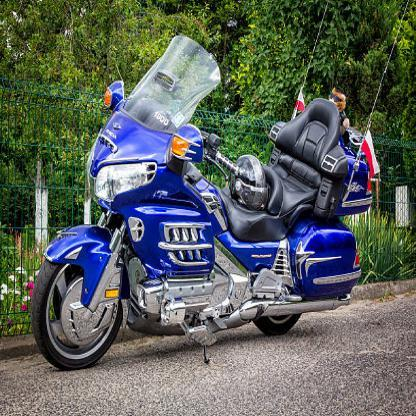Motorcycle: (29, 33, 378, 379)
